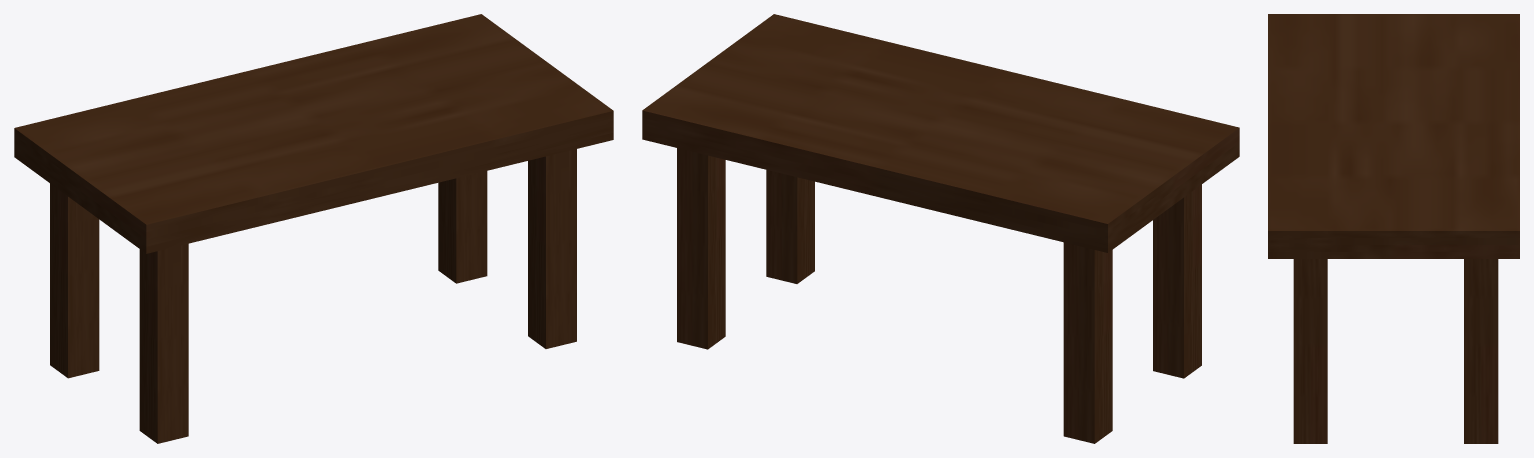
The model's file is table.fbx.
3 renders of one model, left to right at view 1: azimuth 30°, elevation 25°; view 2: azimuth 150°, elevation 25°; view 3: azimuth 270°, elevation 25°, orthographic. The views are drawn at different scales.
Visible parts, largest first — view 1: Cube; view 2: Cube; view 3: Cube.
Boxes of the visible parts, x1,y1,x2,y2 form: Cube: [14, 14, 613, 443]; Cube: [642, 14, 1239, 443]; Cube: [1268, 14, 1519, 443].
Size of the model in its own units: 233 by 112 by 114.
Materials: 1 (1 with a texture image).
